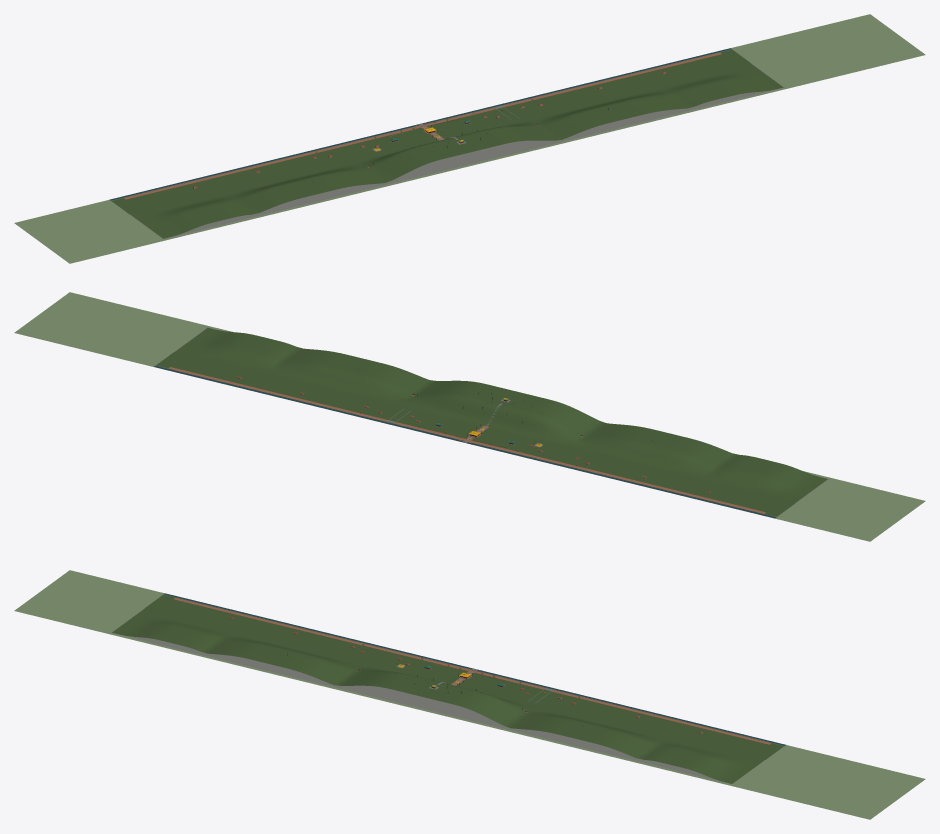
Rendered from T30_bo_nam_ngu_binh.glb.
The picture shows the model from 3 angles, top to bottom: view 1: azimuth 30°, elevation 25°; view 2: azimuth 150°, elevation 25°; view 3: azimuth 330°, elevation 25°; orthographic projection.
Visible parts, largest first — view 1: T30_StaticArchitecture_Root, T30_V2_Satellite_Seamless_Base; view 2: T30_StaticArchitecture_Root, T30_V2_Satellite_Seamless_Base; view 3: T30_StaticArchitecture_Root, T30_V2_Satellite_Seamless_Base.
Boxes of the visible parts, x1,y1,x2,y2 form: T30_StaticArchitecture_Root: [109, 48, 783, 238]; T30_V2_Satellite_Seamless_Base: [14, 14, 925, 263]; T30_StaticArchitecture_Root: [154, 327, 828, 518]; T30_V2_Satellite_Seamless_Base: [14, 292, 925, 541]; T30_StaticArchitecture_Root: [111, 593, 785, 784]; T30_V2_Satellite_Seamless_Base: [14, 570, 925, 819].
Bounding box in the file's own units: 2700 × 44.4 × 305.
20 materials, 4 textured.
